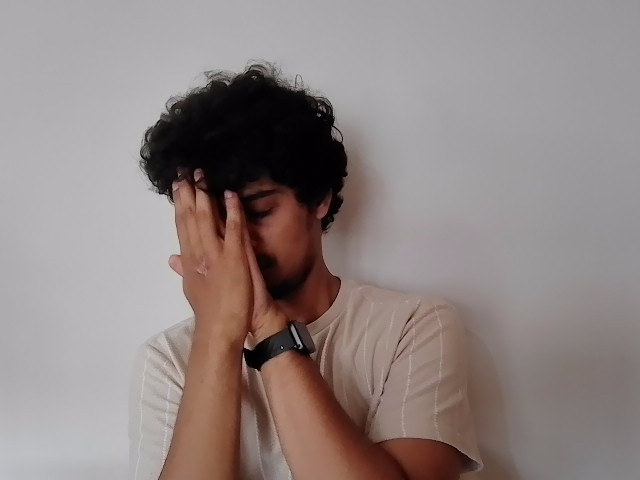sleep: (165, 172, 283, 334)
